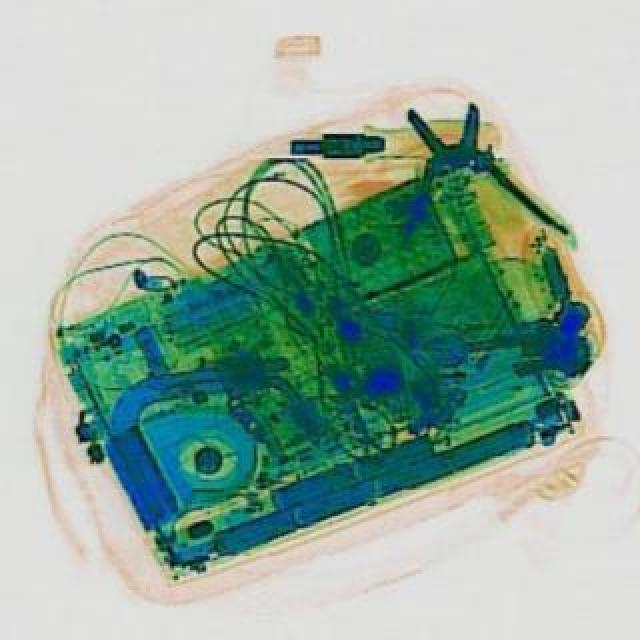wrench: (374, 88, 570, 272)
